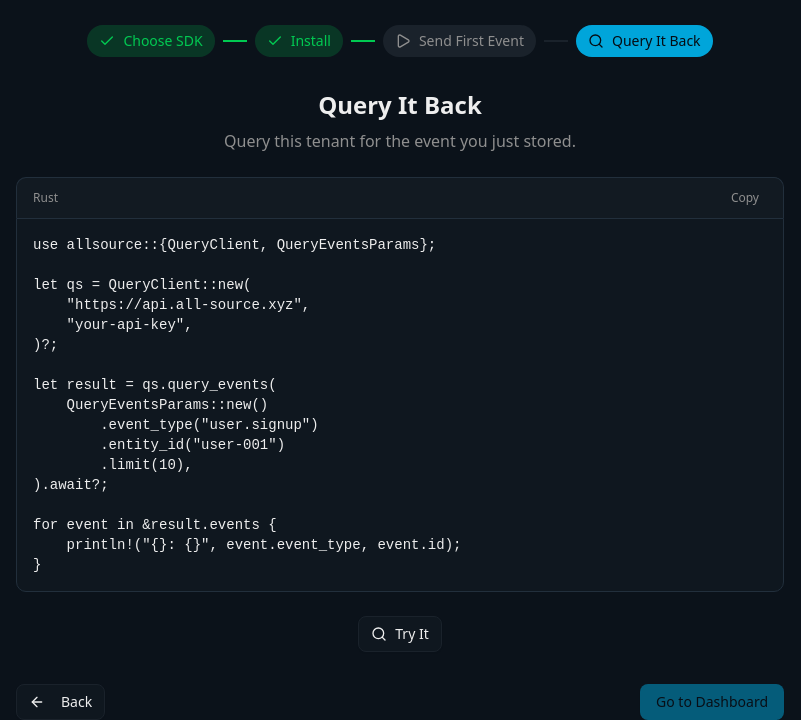
it: Try It button sends correct GET to /api/v1/events/query › does not claim verification when query returns no event
(page scrolled)
What coordinates should you click on to do the following:
click the button with test id "try-it-button"
I would click on:
 (400, 634)
Its box is [358, 616, 442, 652].
(page scrolled)
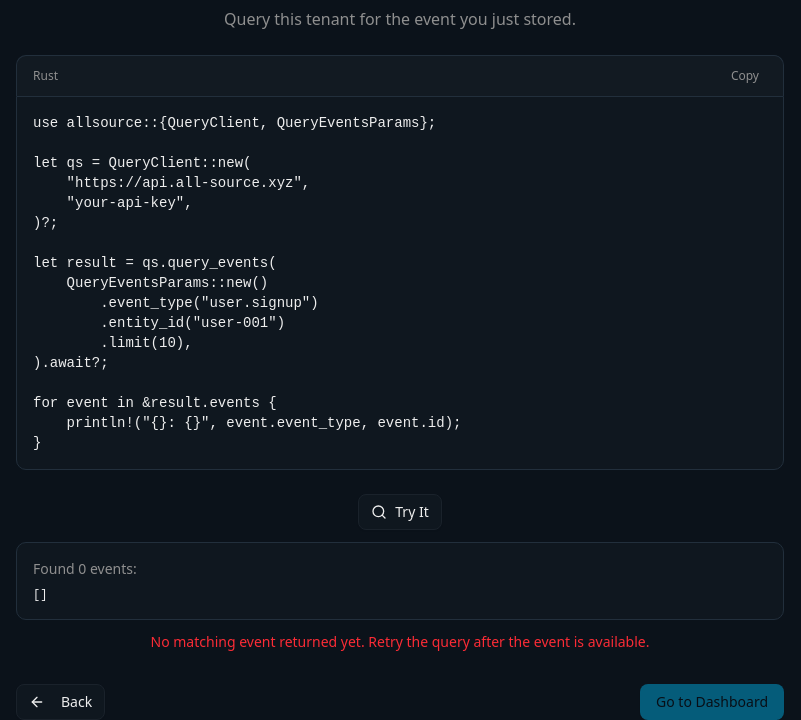
Expected: the button with test id "go-to-dashboard-button" is disabled, [640, 684, 784, 719]
Expected: the text with test id "query-error" shows "No matching event", [150, 632, 649, 651]
